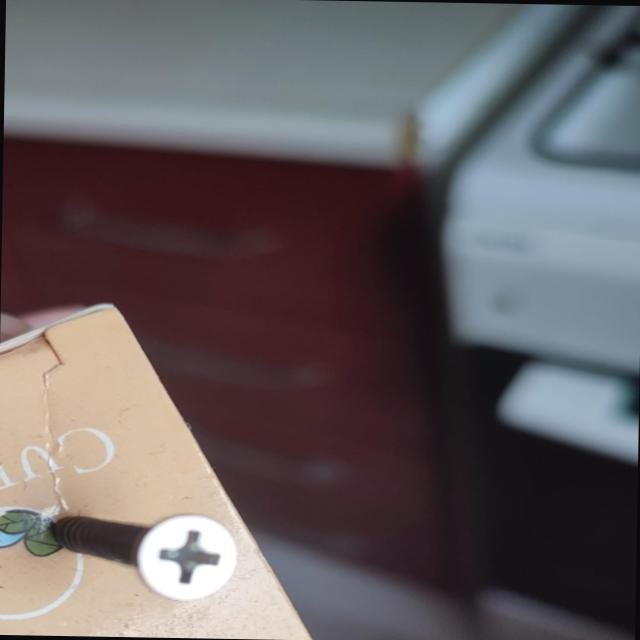Phillips: (132, 520, 246, 596)
